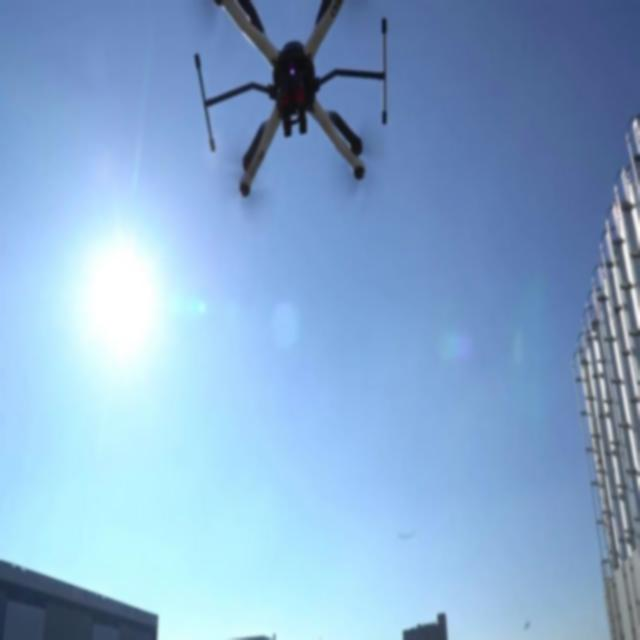UAV: (195, 0, 388, 204)
